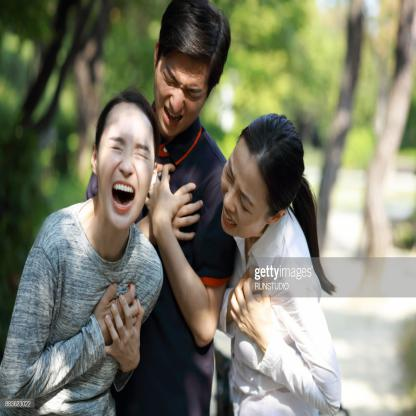pain: (158, 59, 209, 108), (223, 154, 256, 220), (102, 133, 157, 172)
